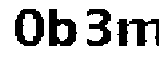0: (11, 4, 45, 49)
3: (82, 6, 114, 49)
b: (47, 6, 79, 50)
m: (114, 16, 160, 52)
